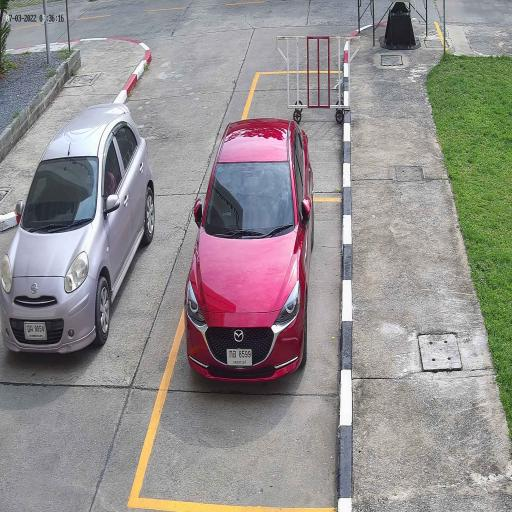car: (0, 100, 157, 358), (185, 116, 314, 384)
